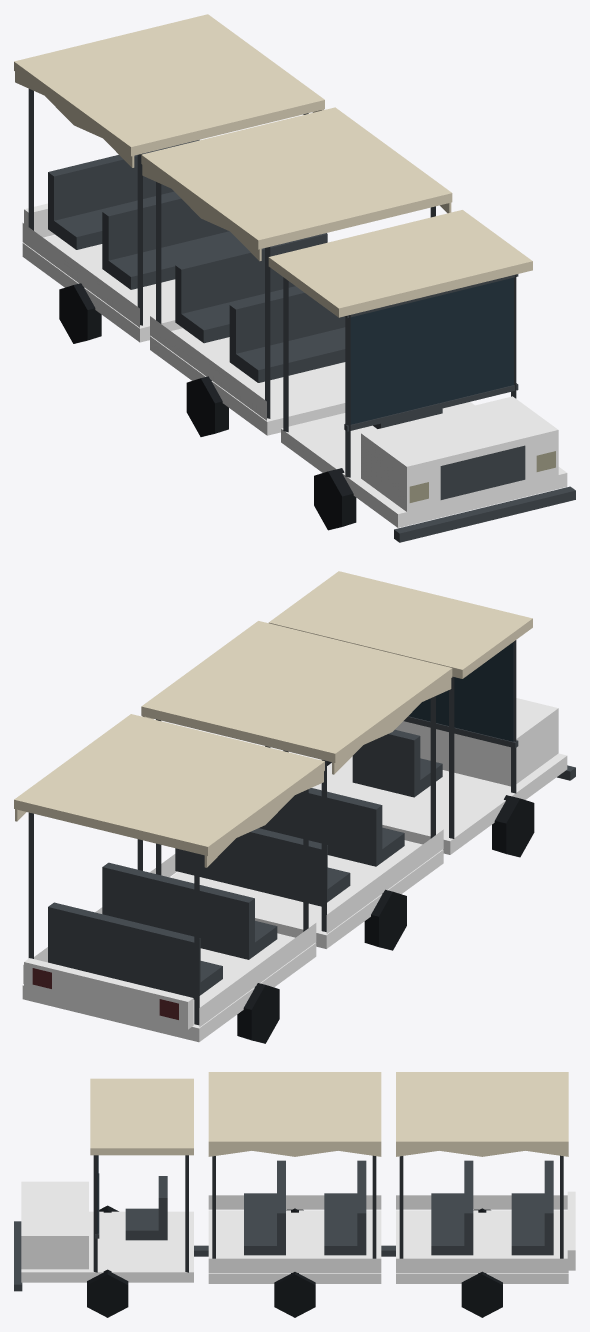
The model's file is island-tram.glb.
3 renders of one model, top to bottom at view 1: azimuth 30°, elevation 25°; view 2: azimuth 150°, elevation 25°; view 3: azimuth 270°, elevation 25°, orthographic. The views are drawn at different scales.
Visible parts, largest first — view 1: vehicle_body; view 2: vehicle_body; view 3: vehicle_body.
Boxes of the visible parts, x1,y1,x2,y2 form: vehicle_body: (14, 14, 575, 542); vehicle_body: (14, 571, 575, 1043); vehicle_body: (14, 1072, 575, 1317).
Size of the model in its own units: 2.2 by 2.6 by 7.5.
